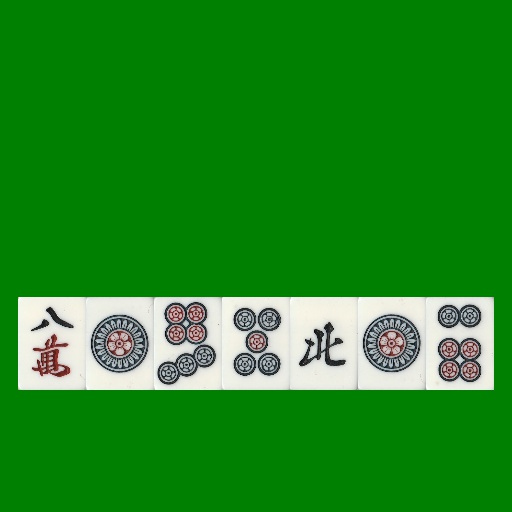1p: (86, 297, 154, 390), (358, 297, 426, 390)
5p: (222, 297, 290, 390)
6p: (426, 297, 494, 390)
7p: (154, 297, 222, 390)
8m: (18, 297, 86, 390)
north: (290, 297, 358, 390)
